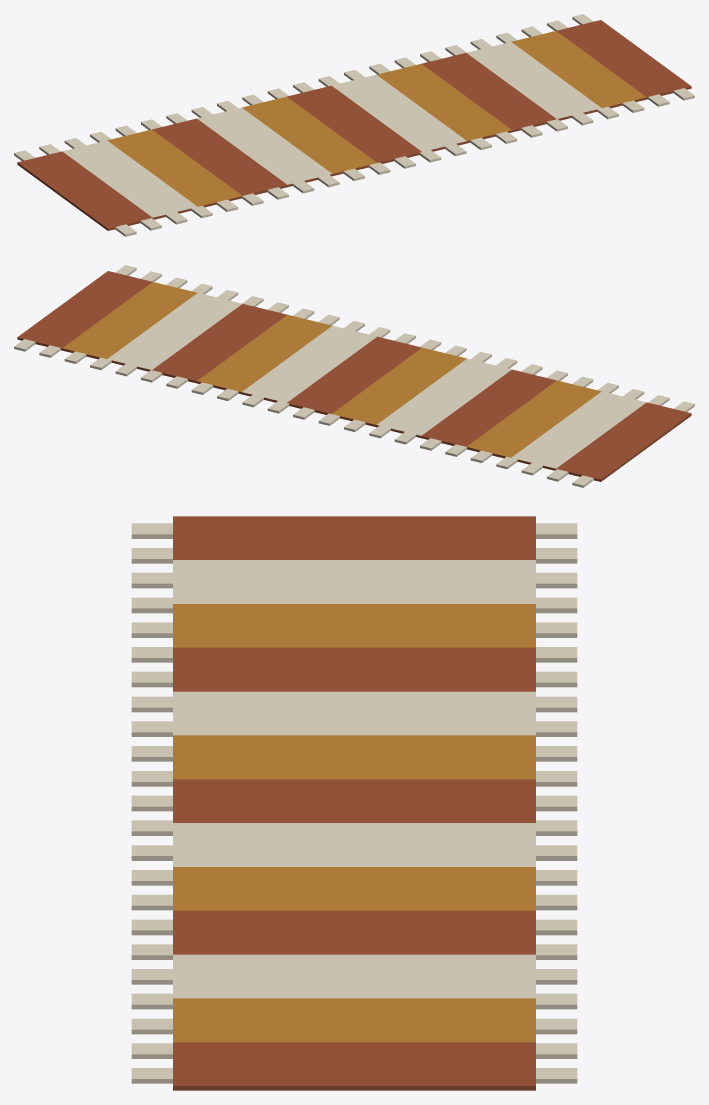
The model's file is SM_LPI_Text_RugRunner_01.fbx.
The picture shows the model from 3 angles, top to bottom: view 1: azimuth 30°, elevation 25°; view 2: azimuth 150°, elevation 25°; view 3: azimuth 270°, elevation 25°; orthographic projection. The views are drawn at different scales.
Visible parts, largest first — view 1: SM_LPI_Text_RugRunner_01; view 2: SM_LPI_Text_RugRunner_01; view 3: SM_LPI_Text_RugRunner_01.
Part boxes in pixels (left/top/right/bottom): SM_LPI_Text_RugRunner_01: left=14, top=14, right=694, bottom=236; SM_LPI_Text_RugRunner_01: left=14, top=265, right=694, bottom=487; SM_LPI_Text_RugRunner_01: left=131, top=516, right=577, bottom=1090.
Bounding box in the file's own units: 2.6 × 0.01 × 0.86.
